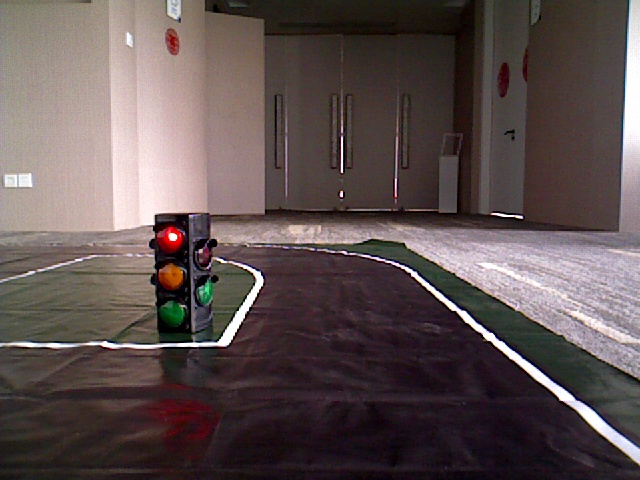red: (154, 217, 191, 325)
